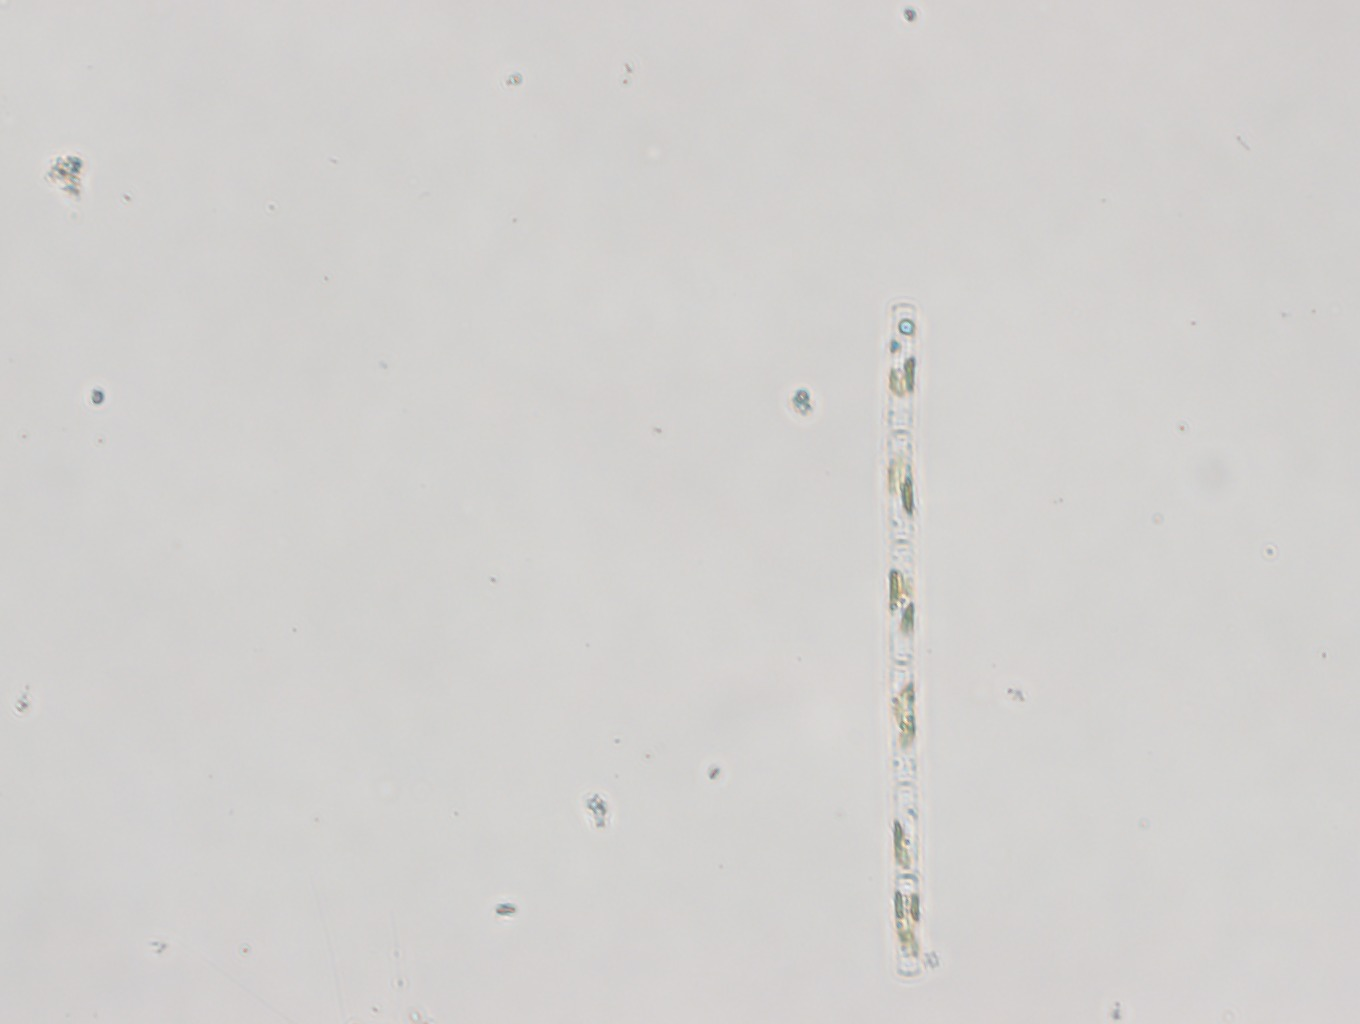guinardia flaccida: (874, 298, 935, 990)
